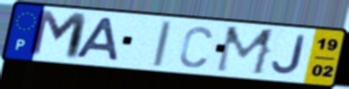A: (73, 16, 120, 63)
C: (177, 25, 214, 70)
I: (151, 19, 174, 68)
J: (270, 33, 308, 76)
M: (27, 8, 91, 62), (213, 25, 279, 77)
